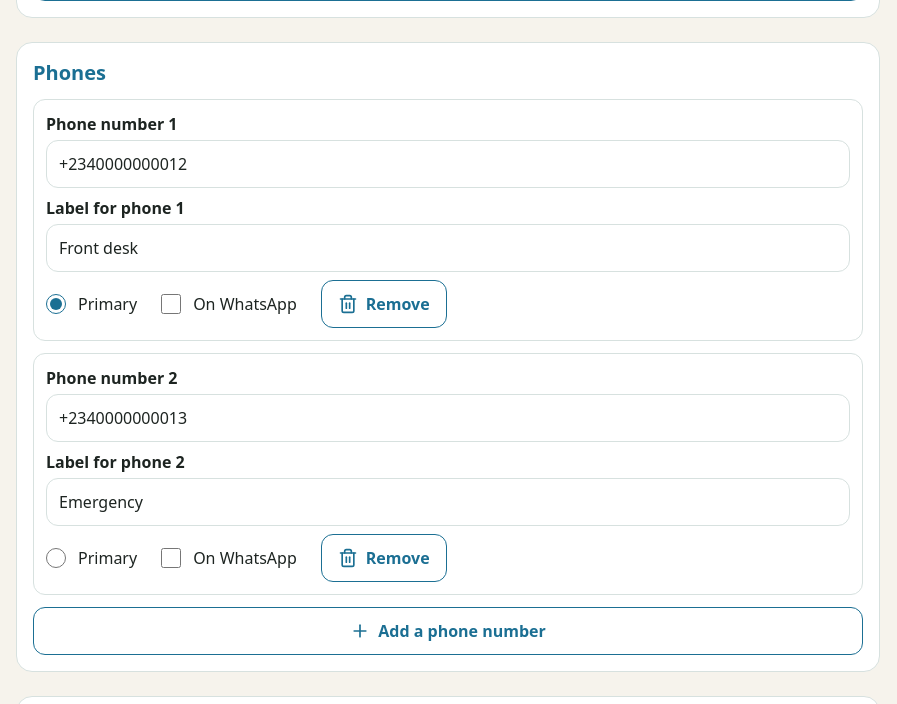
Test: saving › sends the whole phone list when a phone changes
This screenshot has width=897, height=704.
(page scrolled)
Click the checkbox named "Phone 1 is on WhatsApp" at (171, 304), box [161,294,181,314]
(page scrolled)
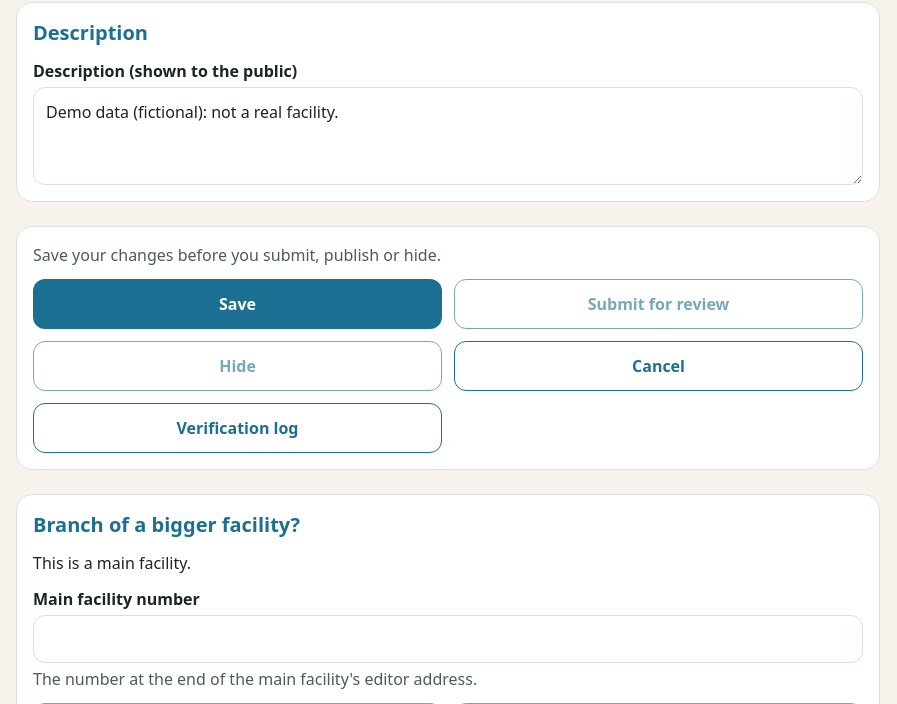
Click the button "Save" at (238, 304), box [33,279,442,329]
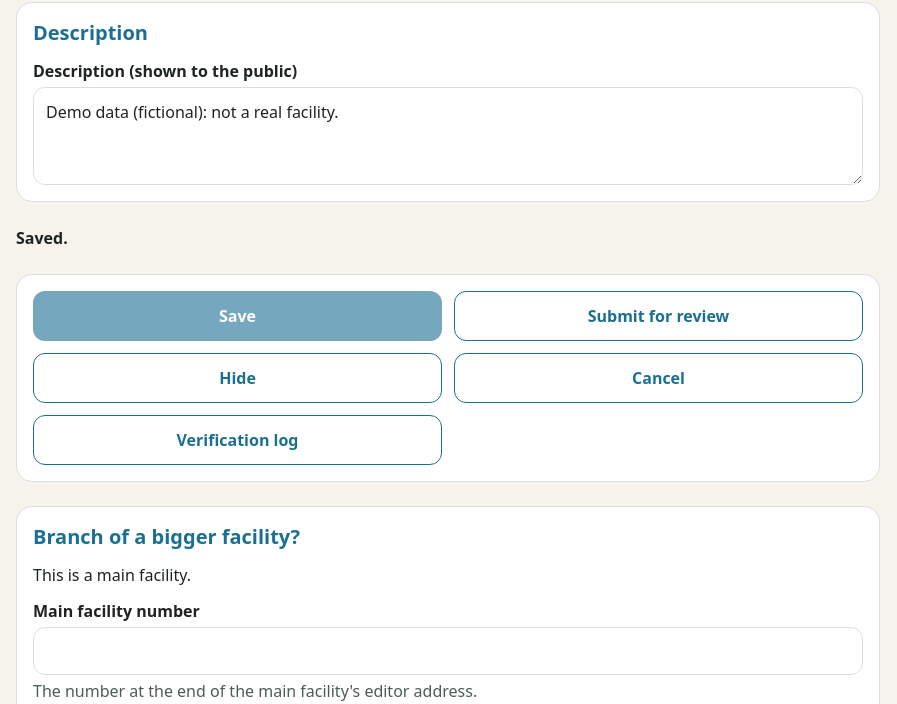
Result: the text "Saved." is shown at [16,227,68,249]
